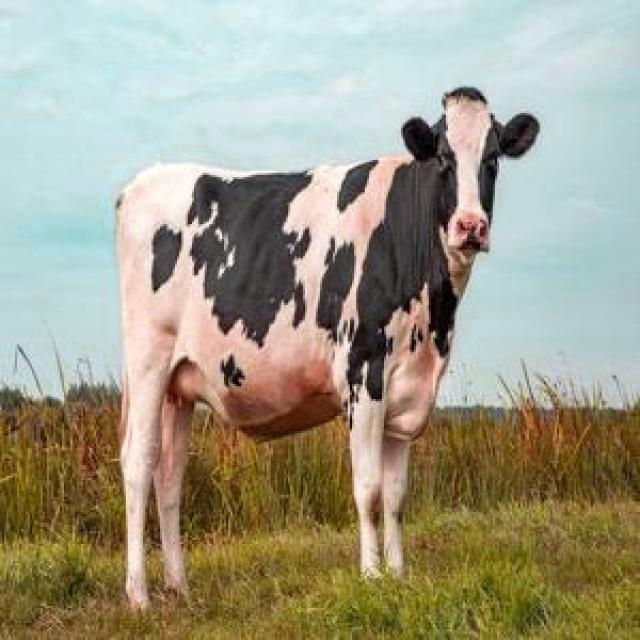cow: (116, 88, 539, 604)
